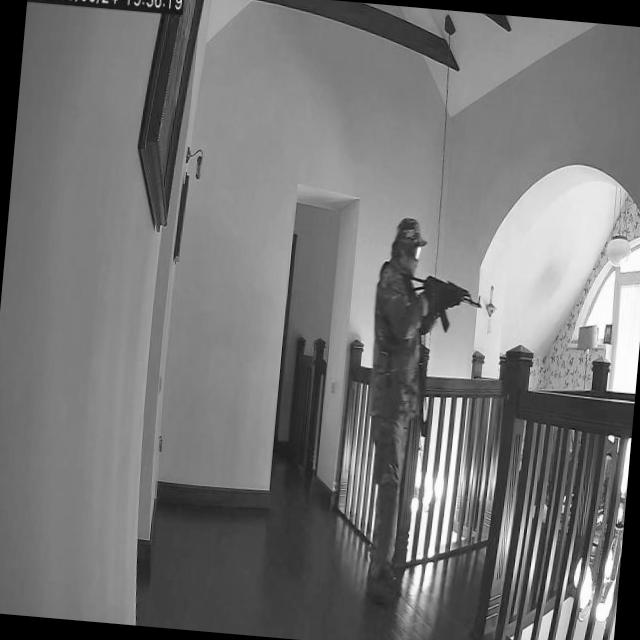gun: (396, 262, 486, 318)
person with a gun: (349, 213, 496, 608)
